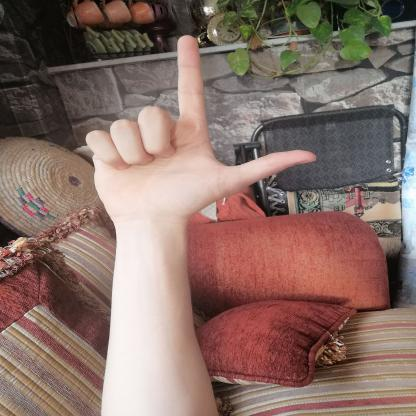LAAM: (73, 23, 327, 228)
